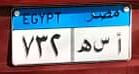2: (49, 33, 65, 58)
3: (36, 34, 49, 59)
7: (21, 34, 34, 58)
alif: (113, 31, 125, 58)
haa: (76, 37, 91, 57)
seen: (93, 35, 111, 55)
